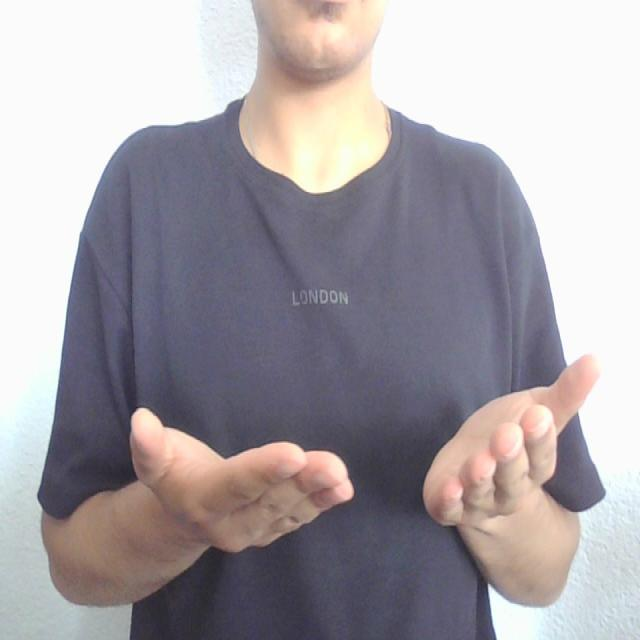Evet: (117, 351, 607, 556)
